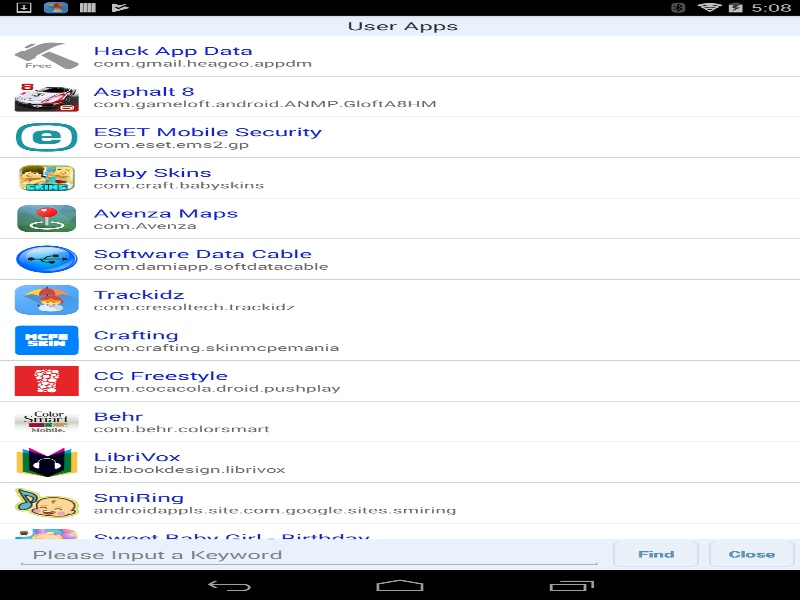Button: (613, 541, 698, 566), (709, 541, 794, 566)
Input: (16, 542, 602, 567)
